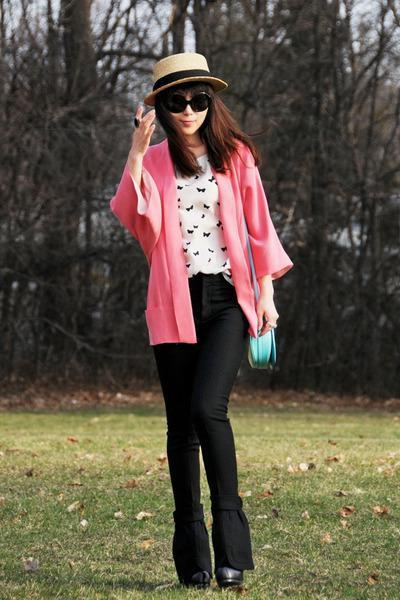jacket: (108, 138, 293, 346)
short sleeve shirt: (160, 148, 241, 295)
trousers: (150, 272, 258, 583)
